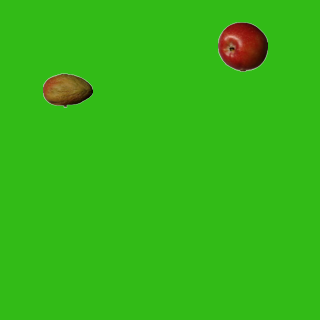Apple Braeburn: (217, 21, 267, 71)
Papaya: (42, 65, 92, 115)
